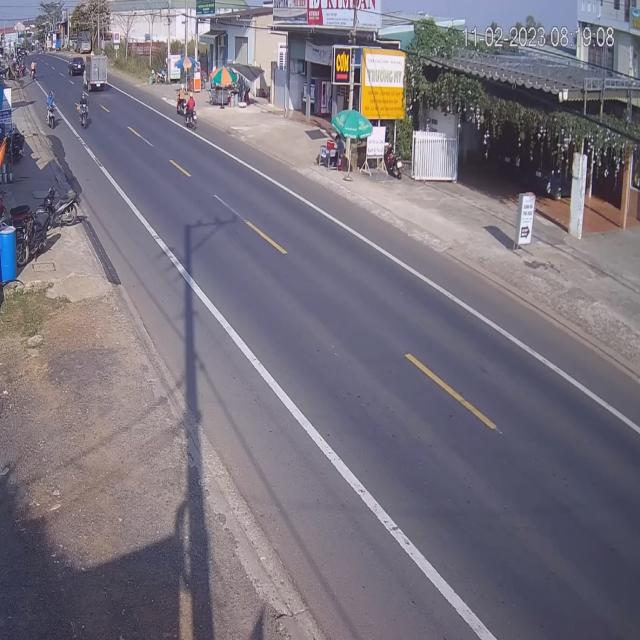car: (70, 52, 85, 78)
motorbike: (184, 97, 201, 133), (45, 90, 57, 128), (78, 91, 89, 129), (175, 84, 186, 114)
truck: (83, 55, 108, 93)
